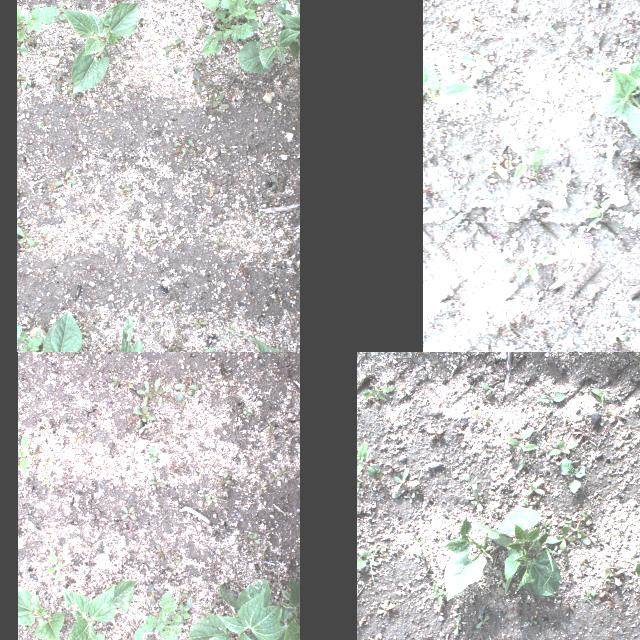crop: (186, 575, 291, 640), (61, 2, 138, 90), (442, 516, 510, 602), (496, 505, 560, 595), (236, 0, 300, 78), (59, 580, 135, 640), (596, 55, 640, 157), (85, 312, 167, 352), (16, 309, 82, 352), (422, 58, 476, 108), (17, 589, 66, 640), (560, 460, 584, 494), (356, 550, 369, 568)
weed: (200, 0, 266, 55), (132, 591, 193, 640), (16, 6, 59, 56), (453, 44, 493, 84), (508, 137, 544, 179), (504, 426, 538, 469), (515, 250, 559, 282), (546, 518, 580, 550), (389, 466, 418, 498), (16, 317, 41, 352), (221, 317, 253, 343), (586, 196, 610, 230), (356, 440, 376, 478), (410, 536, 432, 568), (44, 550, 64, 582), (360, 384, 394, 402), (582, 61, 616, 78), (174, 378, 198, 402), (130, 403, 152, 429), (145, 378, 165, 406), (476, 150, 494, 180), (17, 432, 29, 474), (370, 543, 382, 585), (538, 388, 564, 407), (594, 138, 616, 160), (604, 325, 628, 345), (548, 438, 578, 454), (498, 237, 518, 260), (556, 166, 570, 198), (526, 22, 558, 36), (268, 172, 288, 192), (604, 566, 624, 586), (16, 225, 34, 247), (214, 470, 236, 488), (520, 478, 544, 494), (439, 13, 459, 32), (50, 68, 64, 95), (192, 67, 206, 93), (494, 160, 512, 180), (558, 33, 576, 53), (53, 171, 75, 187), (142, 584, 158, 606), (136, 379, 150, 403), (166, 36, 186, 52), (148, 475, 168, 491), (118, 503, 138, 519), (190, 313, 212, 327), (36, 228, 52, 246), (491, 99, 507, 117), (583, 103, 601, 119), (431, 582, 444, 604), (214, 174, 228, 194), (488, 148, 508, 162), (471, 488, 482, 512), (186, 137, 202, 153), (122, 520, 136, 538), (590, 389, 604, 407), (426, 426, 444, 440), (599, 64, 607, 94), (578, 532, 598, 544), (274, 290, 290, 304), (522, 172, 536, 188), (146, 446, 160, 462), (478, 382, 494, 396), (363, 552, 377, 568), (451, 614, 461, 636), (501, 7, 519, 19), (464, 472, 476, 490), (496, 570, 508, 588), (209, 101, 229, 111), (374, 604, 394, 614), (174, 140, 188, 154), (119, 177, 131, 193), (502, 152, 518, 164), (247, 530, 259, 546), (579, 508, 591, 524), (384, 461, 400, 473), (210, 76, 223, 90), (191, 58, 209, 68), (606, 408, 624, 418), (168, 316, 180, 330), (66, 87, 78, 101), (110, 377, 122, 391), (582, 588, 596, 600), (476, 616, 490, 628), (396, 383, 410, 395), (409, 483, 419, 499), (520, 496, 530, 512), (622, 375, 638, 385), (564, 511, 576, 524), (477, 362, 491, 373), (165, 344, 183, 352), (34, 119, 46, 131), (194, 26, 206, 38), (166, 304, 180, 314), (16, 72, 26, 86), (599, 582, 609, 596), (564, 600, 574, 614), (538, 446, 548, 460), (291, 105, 300, 120), (209, 91, 225, 99), (58, 10, 66, 26), (152, 329, 162, 341), (212, 237, 222, 249), (257, 209, 267, 221), (146, 124, 156, 136), (628, 355, 640, 365), (402, 489, 412, 501), (609, 390, 621, 400), (174, 65, 182, 79), (367, 633, 382, 640), (238, 265, 248, 275), (72, 48, 82, 58), (480, 436, 490, 446), (128, 223, 136, 235), (600, 110, 604, 134), (243, 407, 255, 415), (480, 414, 488, 426), (356, 482, 364, 494), (385, 413, 391, 427), (529, 616, 537, 626), (294, 72, 300, 85), (634, 399, 640, 412), (108, 0, 123, 5), (207, 68, 216, 76), (22, 78, 28, 90), (66, 72, 72, 84), (574, 84, 610, 86), (284, 89, 288, 105), (16, 216, 24, 224), (544, 519, 550, 529), (142, 238, 150, 244), (600, 576, 610, 580), (524, 621, 530, 625), (416, 552, 422, 556)
